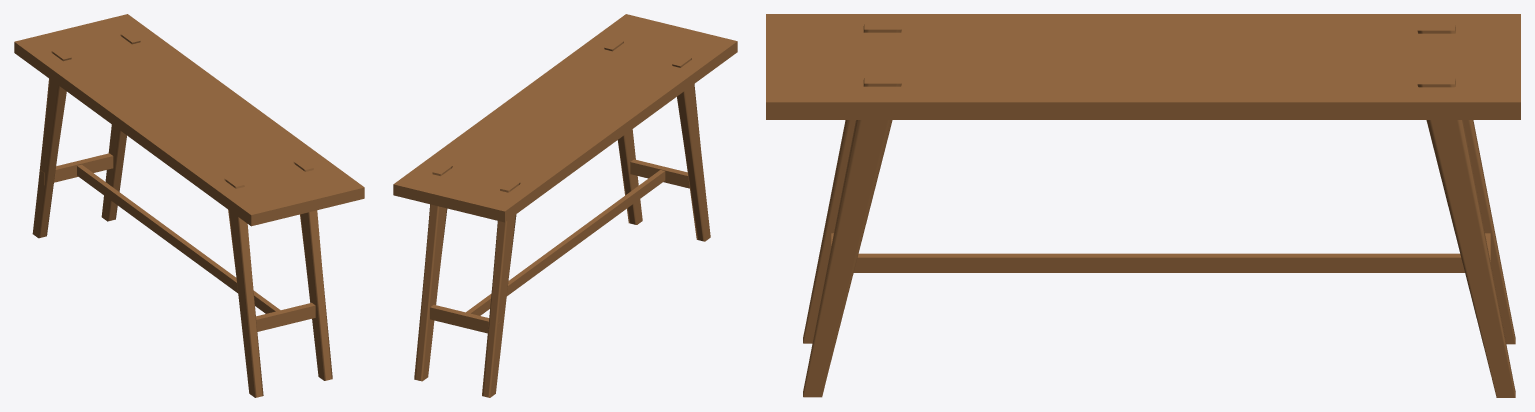
3 renders of one model, left to right at view 1: azimuth 30°, elevation 25°; view 2: azimuth 150°, elevation 25°; view 3: azimuth 270°, elevation 25°, orthographic. The views are drawn at different scales.
Parts seen in each view (by area): view 1: bench; view 2: bench; view 3: bench.
Part boxes in pixels (x1,y1,x2,y2): bench: [14, 14, 364, 397]; bench: [393, 14, 737, 397]; bench: [766, 14, 1520, 397].
Bounding box in the file's own units: 0.4151 × 0.688 × 1.5.
